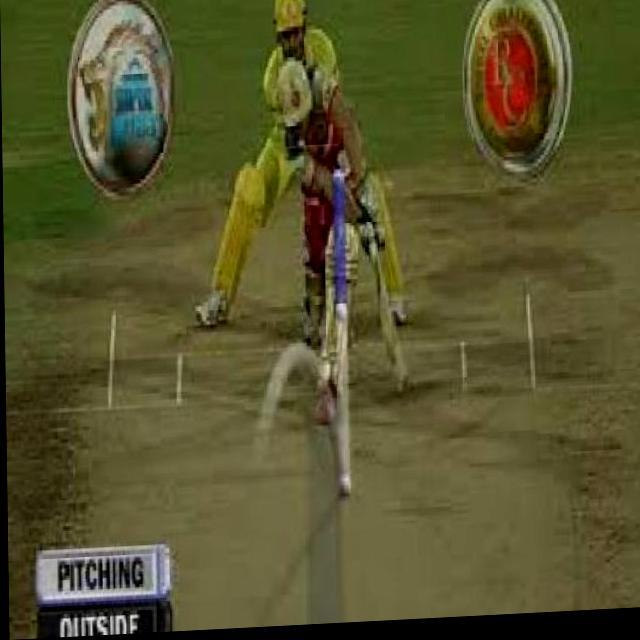-: (321, 303, 362, 336)
